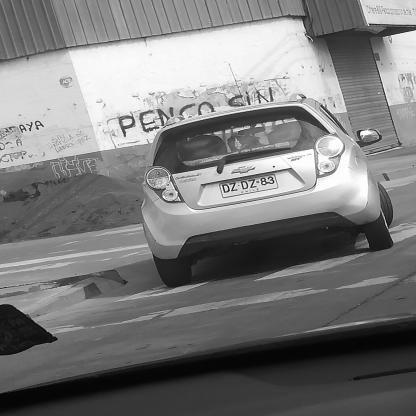Patente: (219, 173, 281, 200)
